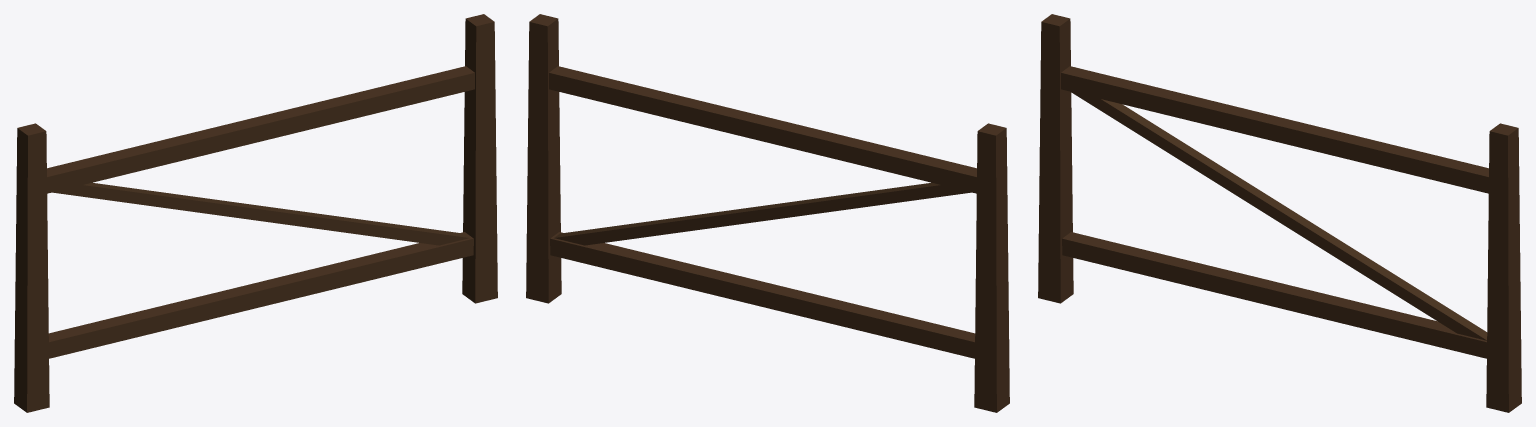
File: Fence_8_Dark_Brown.fbx
3 views of the same model, side by side, from view 1: azimuth 30°, elevation 25°; view 2: azimuth 150°, elevation 25°; view 3: azimuth 330°, elevation 25° (orthographic).
Visible parts, largest first — view 1: Fence_8_Dark_Brown; view 2: Fence_8_Dark_Brown; view 3: Fence_8_Dark_Brown.
Part boxes in pixels (<box>): Fence_8_Dark_Brown: <box>14,14,497,412</box>; Fence_8_Dark_Brown: <box>526,14,1009,412</box>; Fence_8_Dark_Brown: <box>1038,14,1521,412</box>.
Bounding box in the file's own units: 179 × 100 × 8.55.
